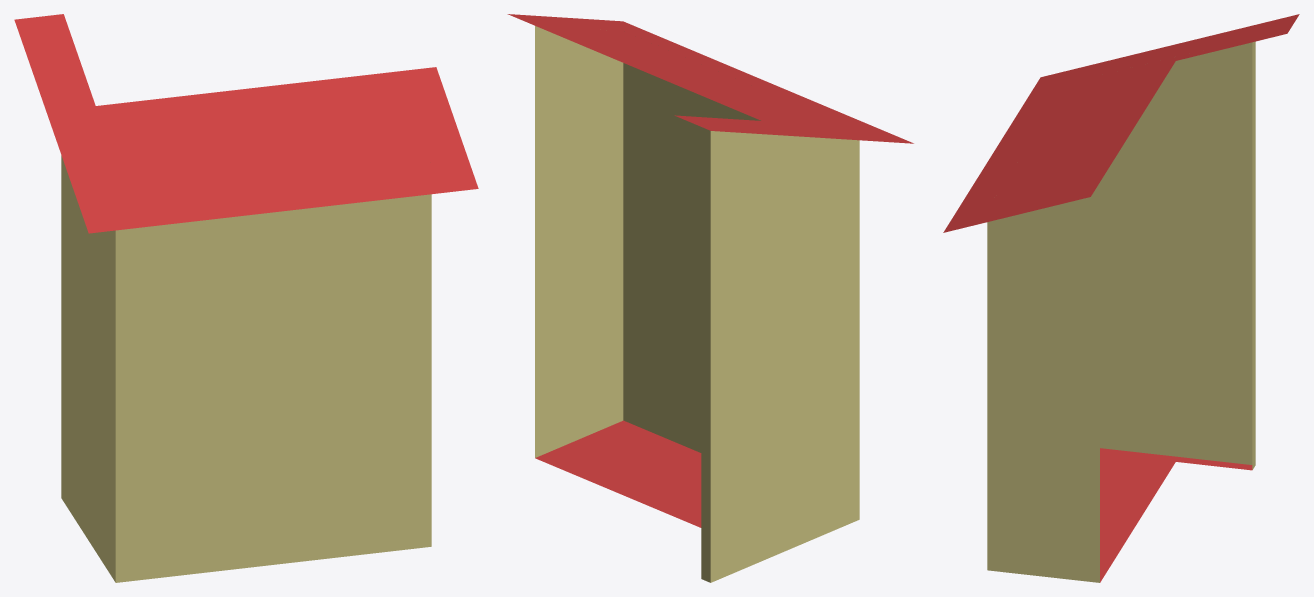
3 renders of one model, left to right at view 1: azimuth 30°, elevation 25°; view 2: azimuth 150°, elevation 25°; view 3: azimuth 270°, elevation 25°, orthographic. The views are drawn at different scales.
Size of the model in its own units: 8.43 by 7.38 by 10.05.
